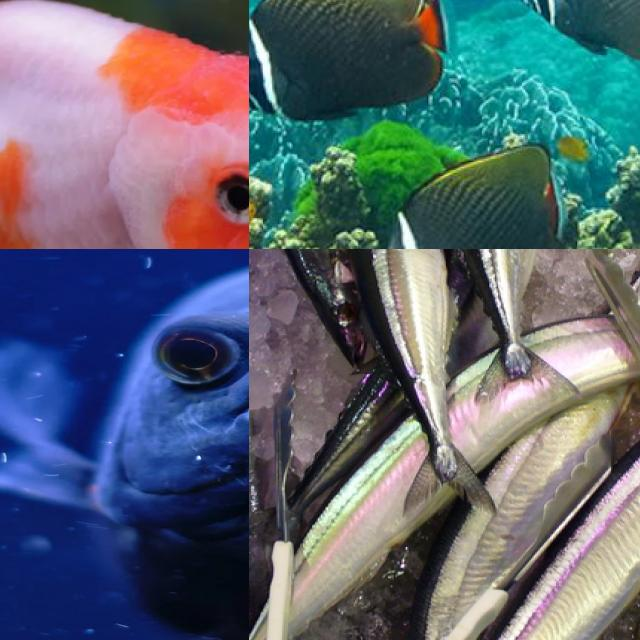fish: (0, 319, 249, 632), (0, 0, 249, 249)
